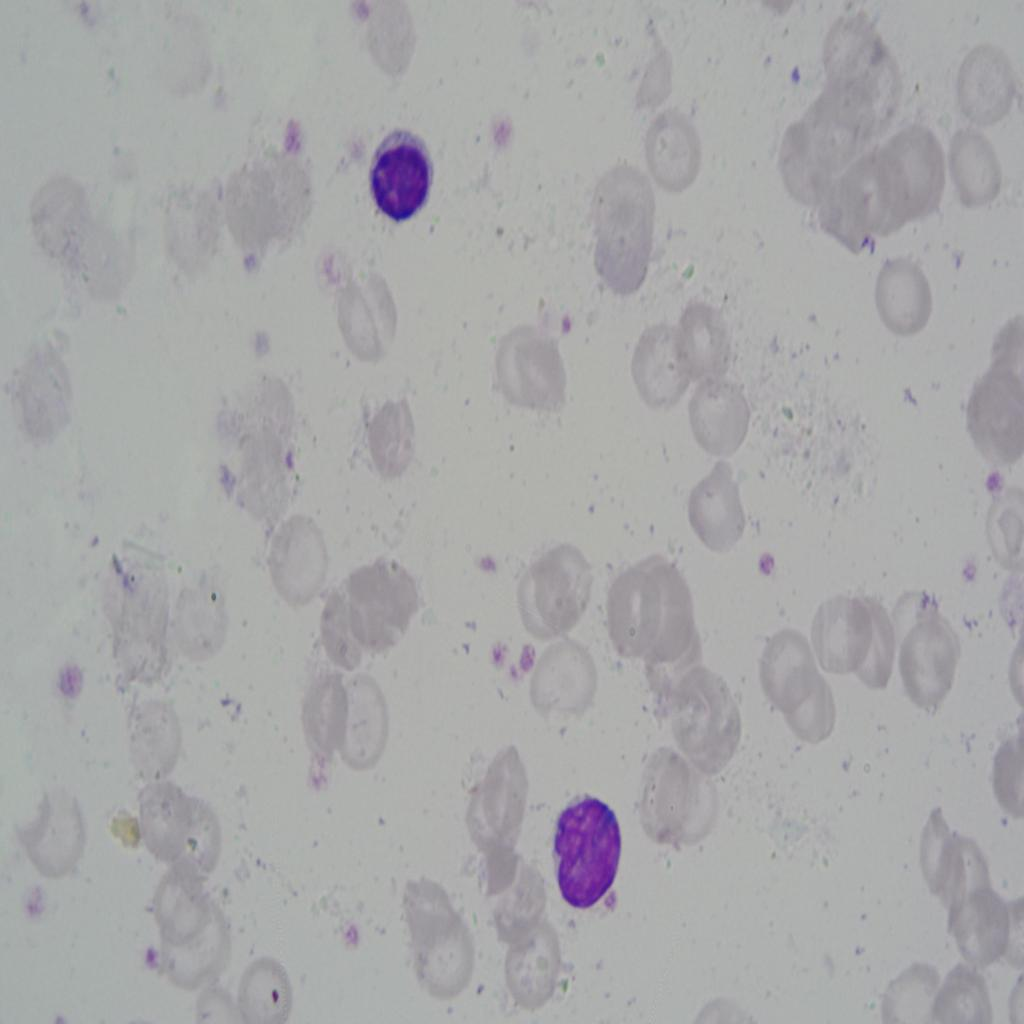Myeoblast: (353, 110, 450, 242), (543, 782, 629, 927)
Platelet: (213, 456, 247, 506), (136, 935, 168, 986), (957, 546, 984, 597), (51, 666, 81, 708), (491, 112, 523, 150), (473, 537, 499, 583), (756, 542, 778, 589), (260, 979, 287, 1014), (246, 322, 277, 352), (282, 121, 305, 158), (792, 49, 810, 96), (981, 458, 1003, 496), (552, 311, 574, 349), (520, 635, 536, 684), (485, 643, 508, 676), (239, 252, 265, 281), (350, 0, 372, 31), (341, 918, 362, 944), (284, 439, 296, 474)
